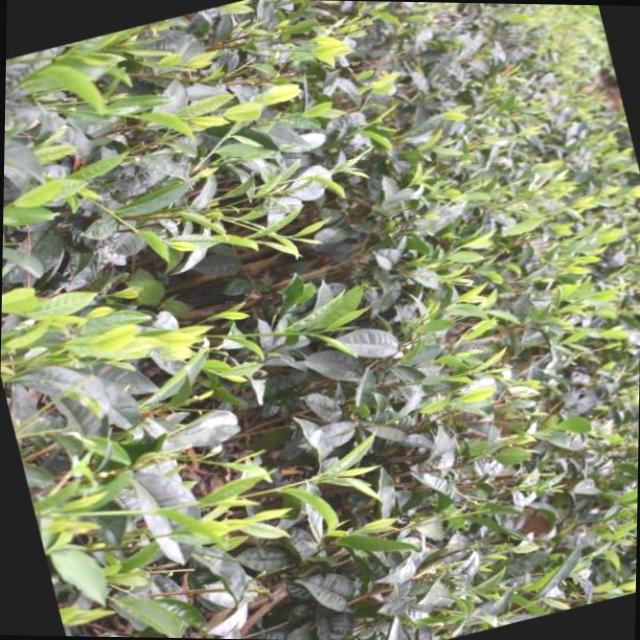Stem: (133, 509, 153, 514), (266, 487, 277, 493), (264, 332, 277, 335), (293, 177, 301, 180)
